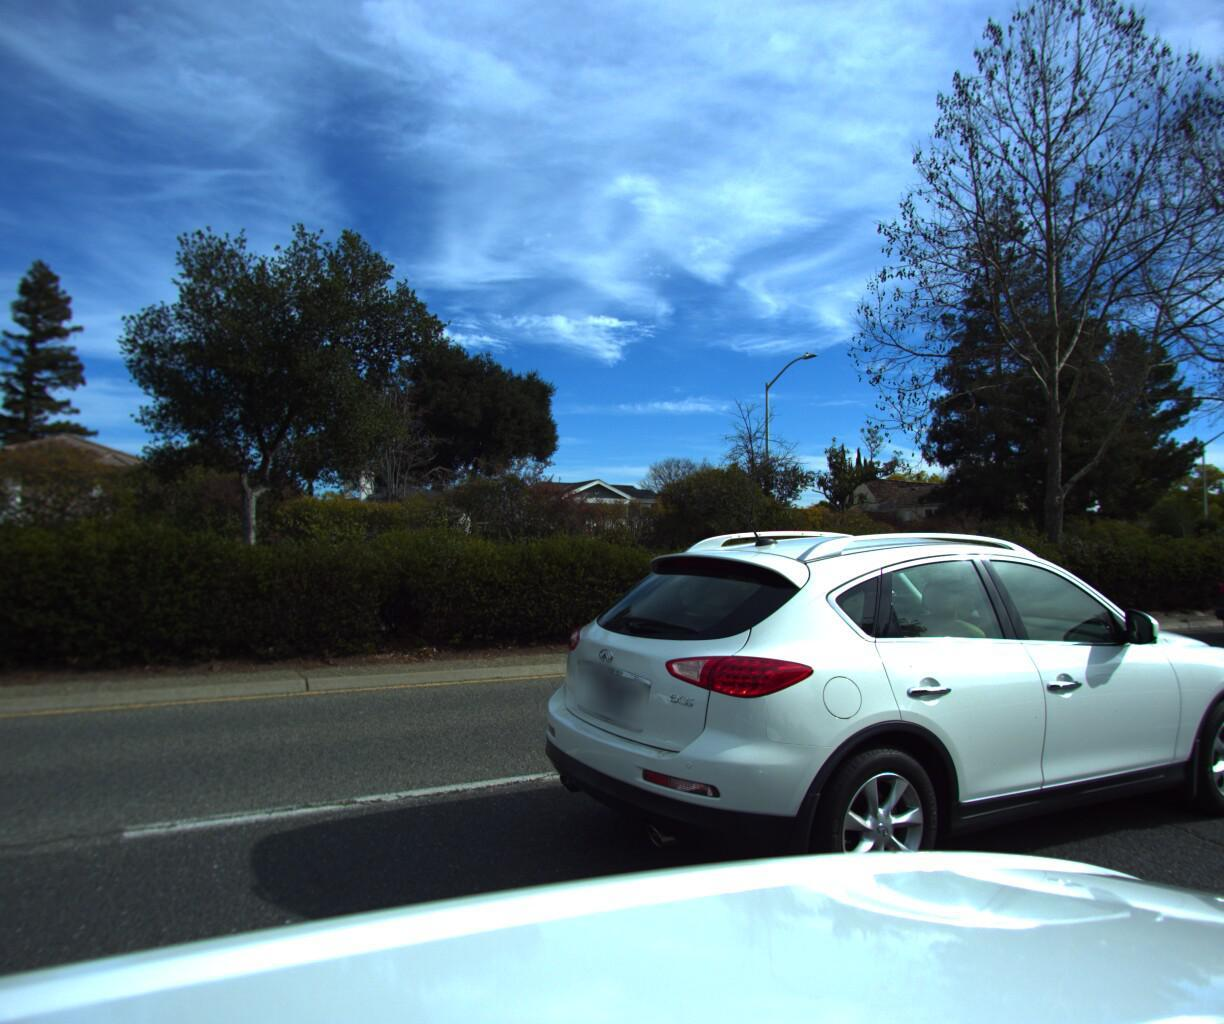car: (503, 501, 1224, 960), (1202, 530, 1224, 650)
